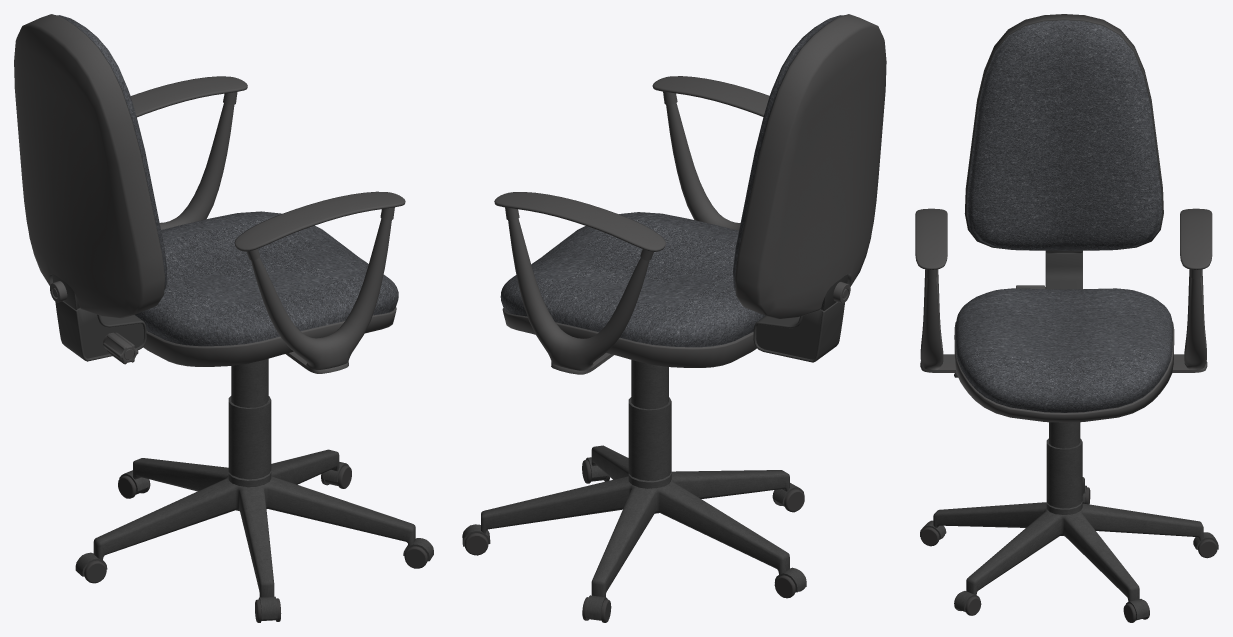
3 renders of one model, left to right at view 1: azimuth 30°, elevation 25°; view 2: azimuth 150°, elevation 25°; view 3: azimuth 270°, elevation 25°, orthographic. The views are drawn at different scales.
Visible parts, largest first — view 1: MixedArmchair, MixedBack, Mixedlower_part, lowerscrew, lower_wheels_003, lower_wheels_001, lower_wheels, lower_wheels_002; view 2: MixedArmchair, MixedBack, Mixedlower_part, lower_wheels_003, lower_wheels_004, lower_wheels, lower_wheels_002; view 3: MixedBack, MixedArmchair, Mixedlower_part, lower_wheels_001, lower_wheels_004, lower_wheels, lower_wheels_002.
Part boxes in pixels (x1,y1,x2,y2): MixedArmchair: [131, 76, 405, 373]; MixedBack: [14, 14, 167, 361]; Mixedlower_part: [93, 358, 415, 597]; lowerscrew: [103, 332, 138, 364]; lower_wheels_003: [75, 552, 107, 583]; lower_wheels_001: [403, 538, 433, 568]; lower_wheels: [118, 470, 150, 498]; lower_wheels_002: [255, 596, 281, 622]; MixedArmchair: [494, 76, 769, 374]; MixedBack: [733, 14, 886, 362]; Mixedlower_part: [481, 360, 789, 597]; lower_wheels_003: [774, 567, 806, 598]; lower_wheels_004: [462, 524, 490, 555]; lower_wheels: [582, 595, 611, 622]; lower_wheels_002: [772, 483, 804, 512]; MixedBack: [964, 14, 1163, 289]; MixedArmchair: [915, 208, 1212, 422]; Mixedlower_part: [933, 422, 1203, 601]; lower_wheels_001: [954, 591, 981, 615]; lower_wheels_004: [1123, 599, 1149, 622]; lower_wheels: [1193, 532, 1218, 558]; lower_wheels_002: [920, 520, 946, 546].
Size of the model in its own units: 0.5914 by 0.9367 by 0.5412.
Materials: 1 (1 with a texture image).
